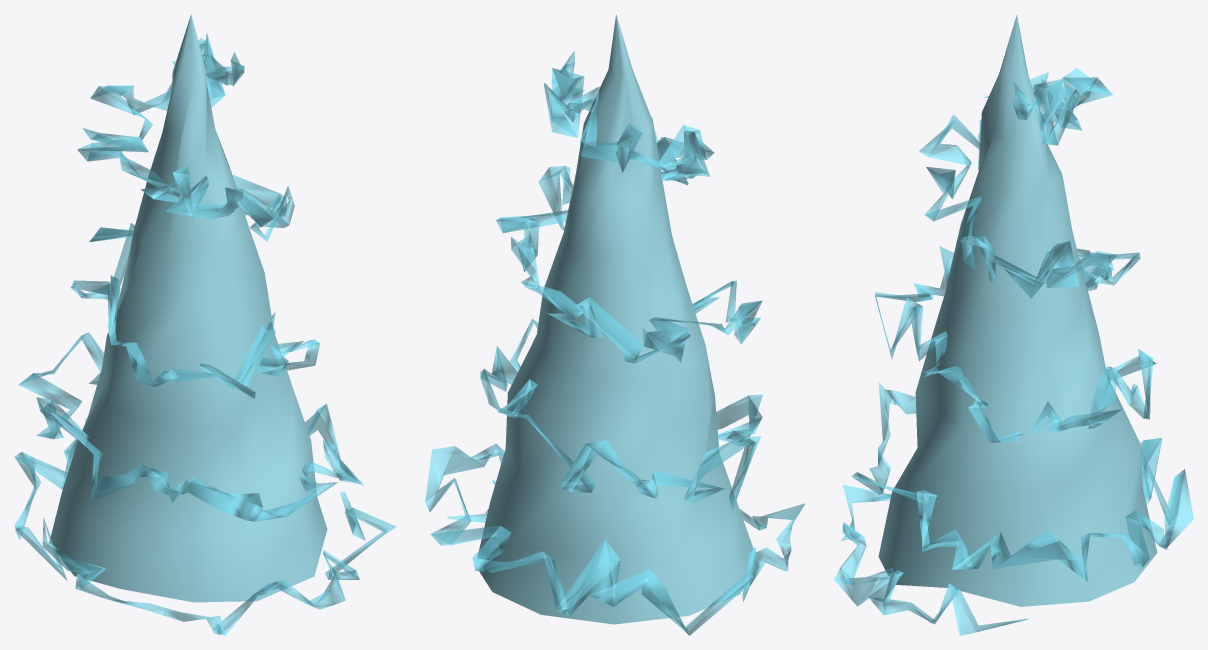
The model's file is Beam3.FBX.
The picture shows the model from 3 angles, left to right: view 1: azimuth 30°, elevation 25°; view 2: azimuth 150°, elevation 25°; view 3: azimuth 270°, elevation 25°; orthographic projection. The views are drawn at different scales.
Parts seen in each view (by area): view 1: Cone001, Helix001; view 2: Cone001, Helix001; view 3: Cone001, Helix001.
Boxes of the visible parts, x1=… form: Cone001: x1=49, y1=14, x2=327, y2=602; Helix001: x1=14, y1=33, x2=396, y2=635; Cone001: x1=477, y1=14, x2=753, y2=624; Helix001: x1=425, y1=51, x2=805, y2=635; Cone001: x1=878, y1=15, x2=1157, y2=606; Helix001: x1=834, y1=68, x2=1193, y2=635.
Size of the model in its own units: 522 by 864 by 508.
